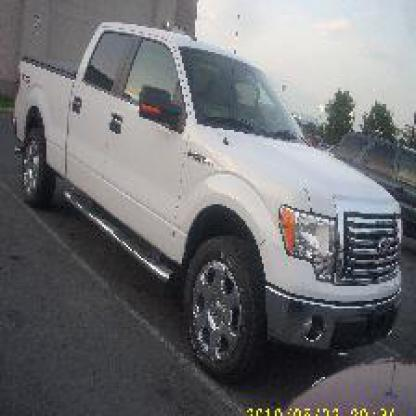not_emergency: (19, 12, 406, 354)
